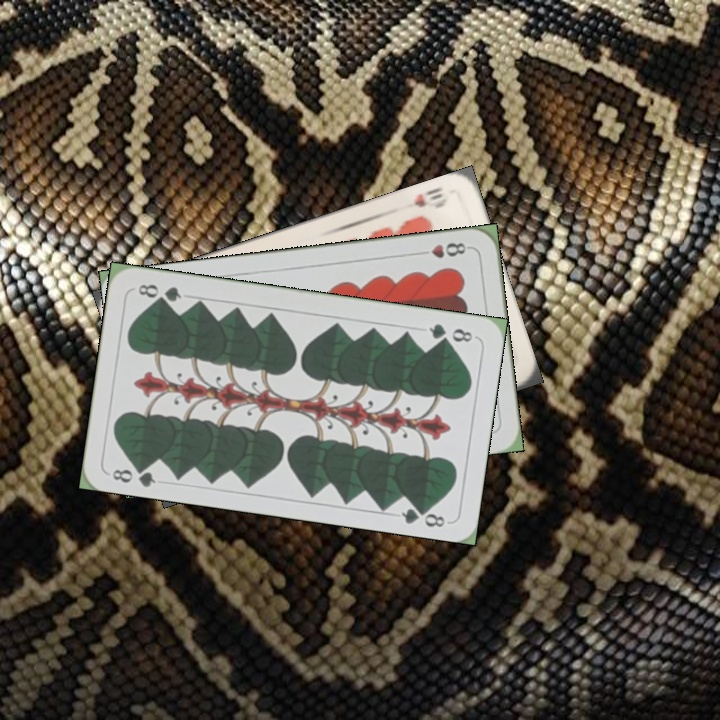G8: (108, 460, 158, 490), (425, 319, 475, 345)
H10: (409, 183, 450, 211)
H8: (414, 239, 473, 261)
